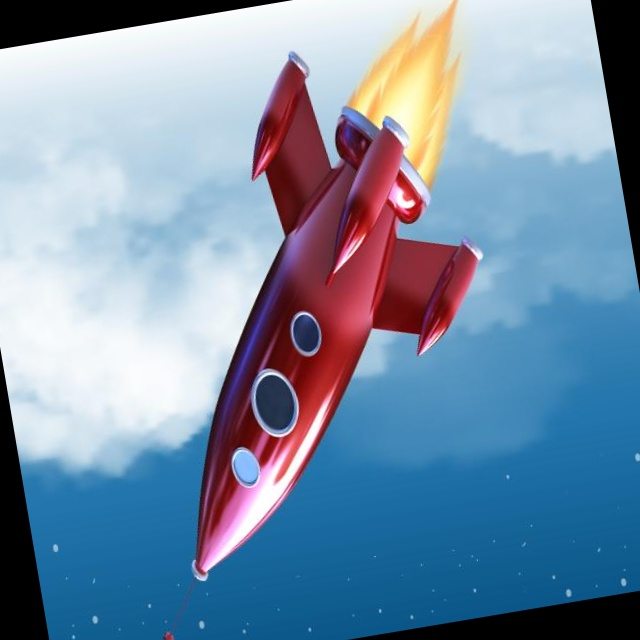large_debris: (0, 214, 215, 521), (444, 0, 622, 211)
medium_debris: (325, 0, 494, 194)
